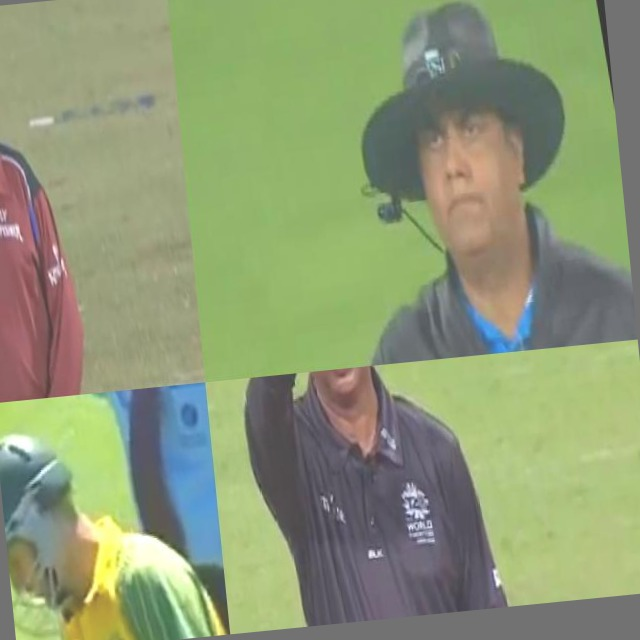No_Ball: (168, 0, 638, 382)
Out: (217, 353, 524, 633), (0, 0, 108, 403)
Wide: (0, 382, 223, 587)
